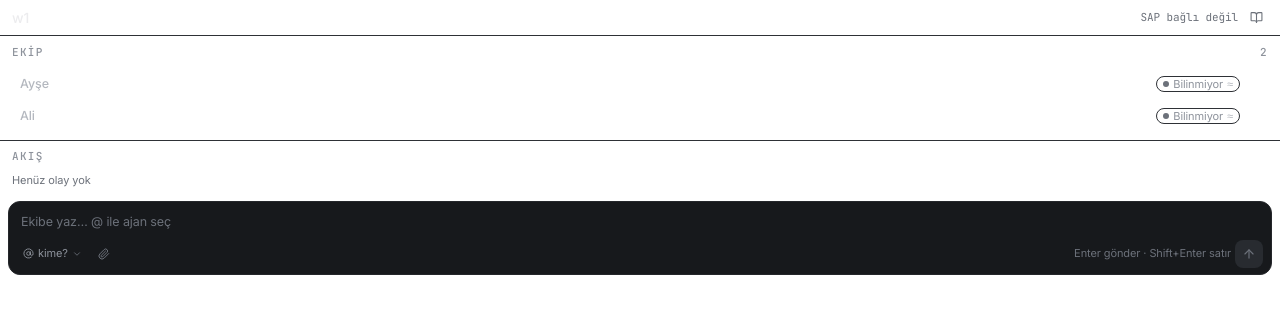
Akış — mesaj kutusu › @ekip: listede ilk seçenek (2+ ajan); tek satır tüm ekibe sırayla gidiyor, her başarı akışa yazılıyor
Type "@ek" into the dropdown named "Ajana mesaj".
click(640, 222); type("@ek")  # box [17,206,1263,240]
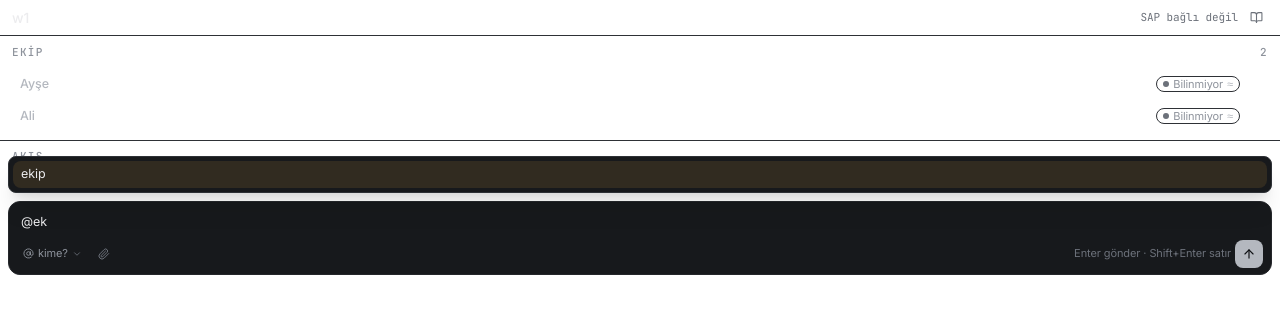
Press Enter in the dropdown named "Ajana mesaj", box [17,206,1263,240]
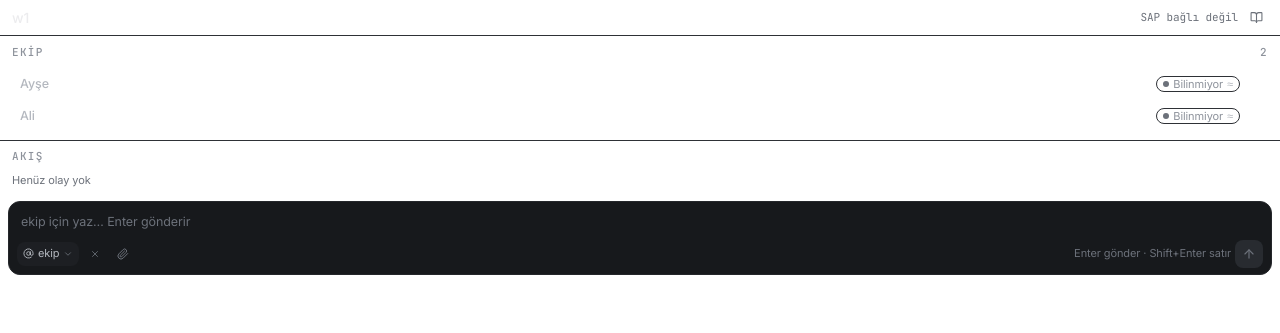
Result: the button with aria-label "Kime: ekip — değiştir" is shown at [17,242,80,266]
Type "durumu yaz" into the dropdown named "Ajana mesaj".
click(640, 222); type("durumu yaz")  # box [17,206,1263,240]
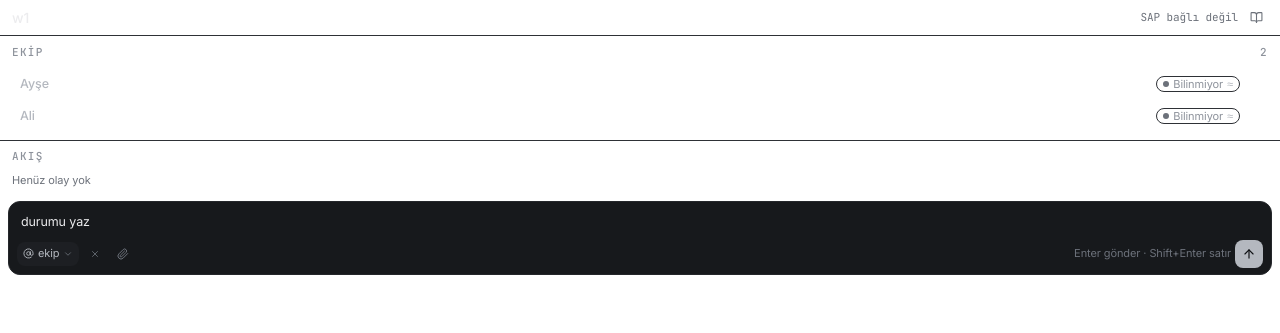
Press Enter in the dropdown named "Ajana mesaj", box [17,206,1263,240]
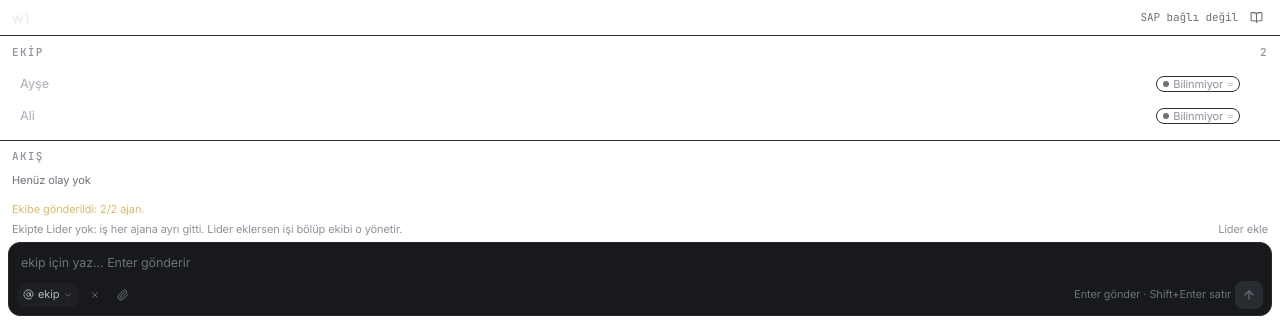
Result: the dropdown named "Ajana mesaj" is empty at [17,246,1263,280]
Result: the message reads "Ekibe gönderildi: 2/2 ajan." at [12,202,144,216]
